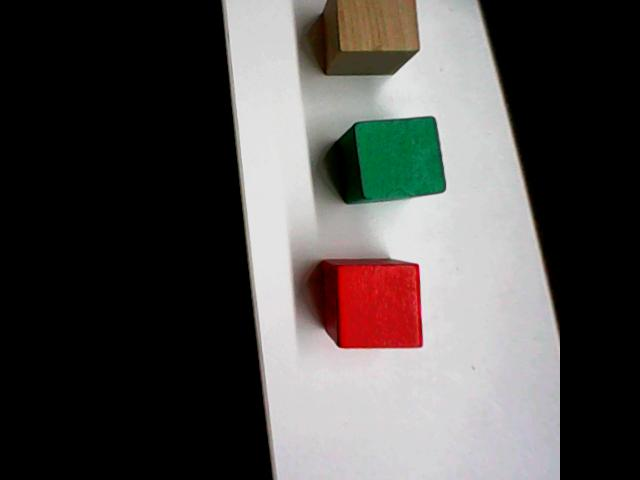green_box: (332, 112, 449, 207)
raw_box: (319, 0, 421, 78)
red_box: (317, 255, 427, 352)
